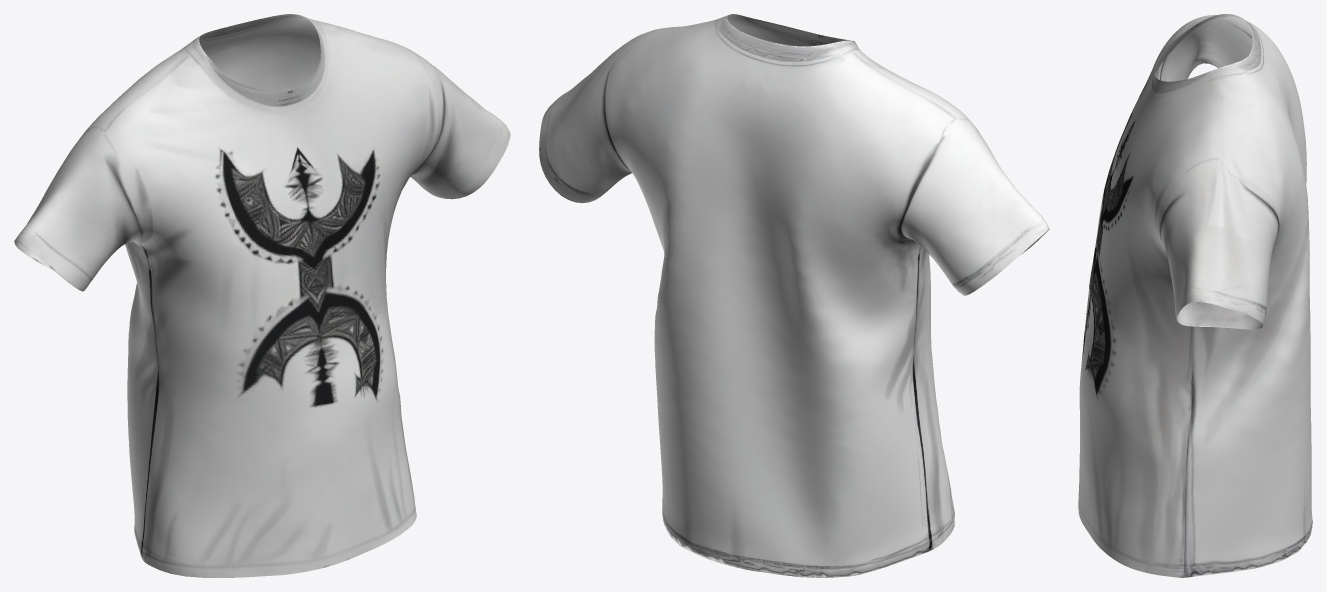
The model's file is Tshirt.glb.
3 renders of one model, left to right at view 1: azimuth 30°, elevation 25°; view 2: azimuth 150°, elevation 25°; view 3: azimuth 270°, elevation 25°, orthographic. The views are drawn at different scales.
Visible parts, largest first — view 1: Mesh_0; view 2: Mesh_0; view 3: Mesh_0.
Part boxes in pixels (x1,y1,x2,y2): Mesh_0: (14,14,510,577); Mesh_0: (539,14,1049,577); Mesh_0: (1078,14,1312,577).
Size of the model in its own units: 0.726 by 0.7002 by 0.3072.
Materials: 1 (1 with a texture image).
